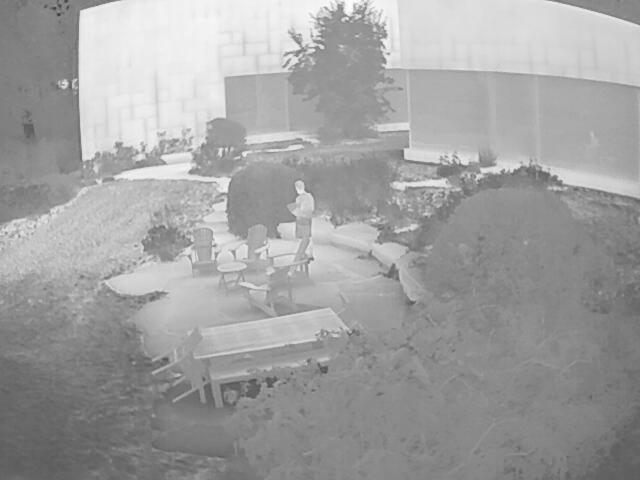person: (288, 178, 315, 272)
